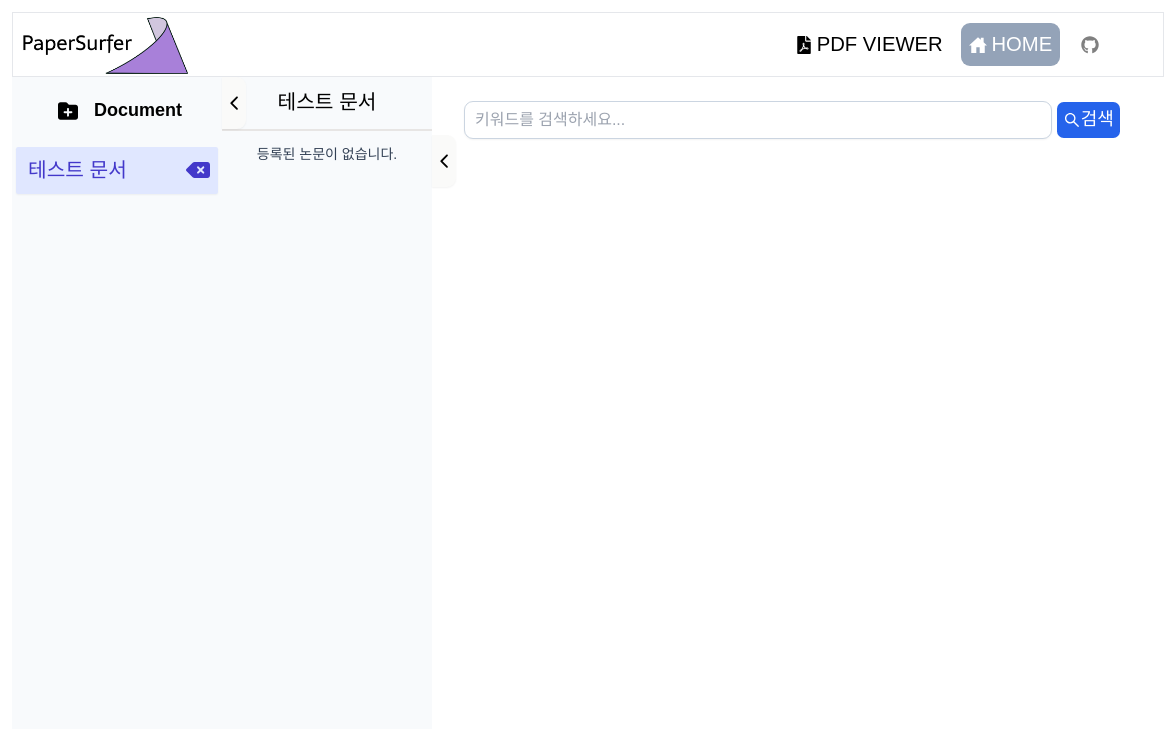
Scenario: [SearchPage] 테스트 › (2) Paper Card에서 `이 문서에 추가`버튼을 누르면, paperSideBar에서 Paper컴포넌트가 올바르게 렌더링 되어야 합니다.
In the search field with placeholder "키워드를 검색하세요...": (758, 120) 464,101 -> 1052,138, type "lipase"
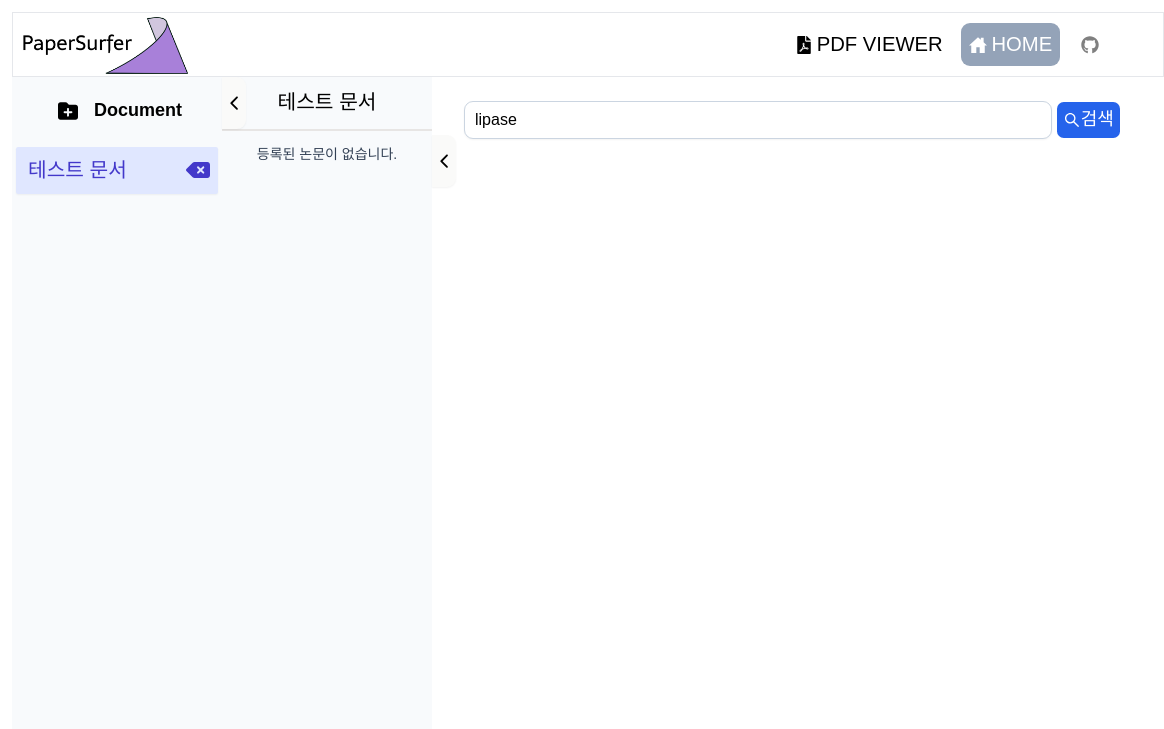
Click the submit button: (1088, 120) 1057,102 -> 1120,138
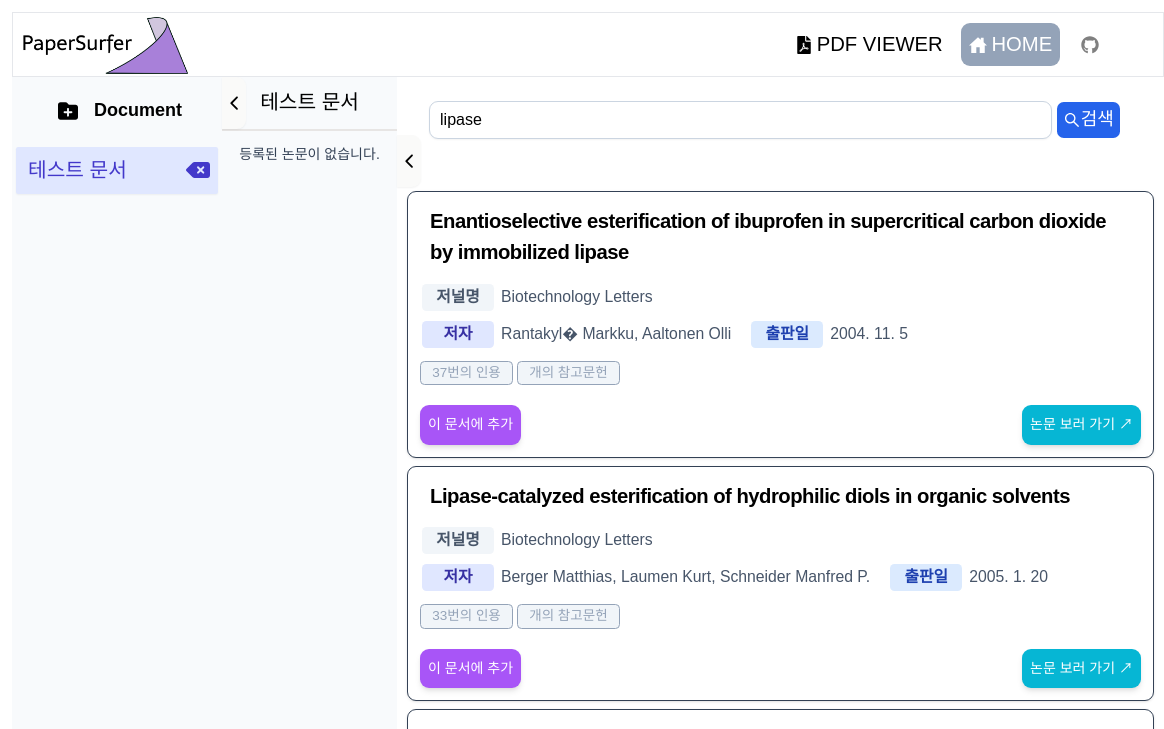
Click the button "이 문서에 추가" below "37": (471, 425) 420,405 -> 521,444
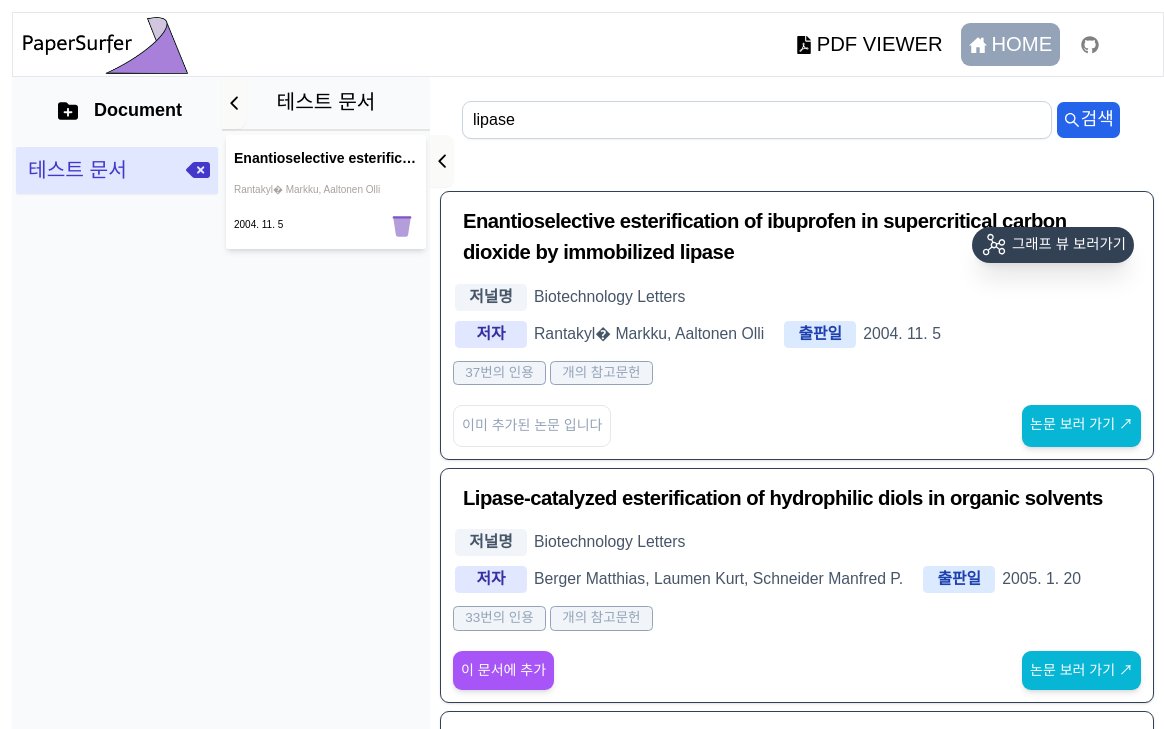
Result: the number of elements with test id "paper" is 1 at 226,134 -> 426,248
